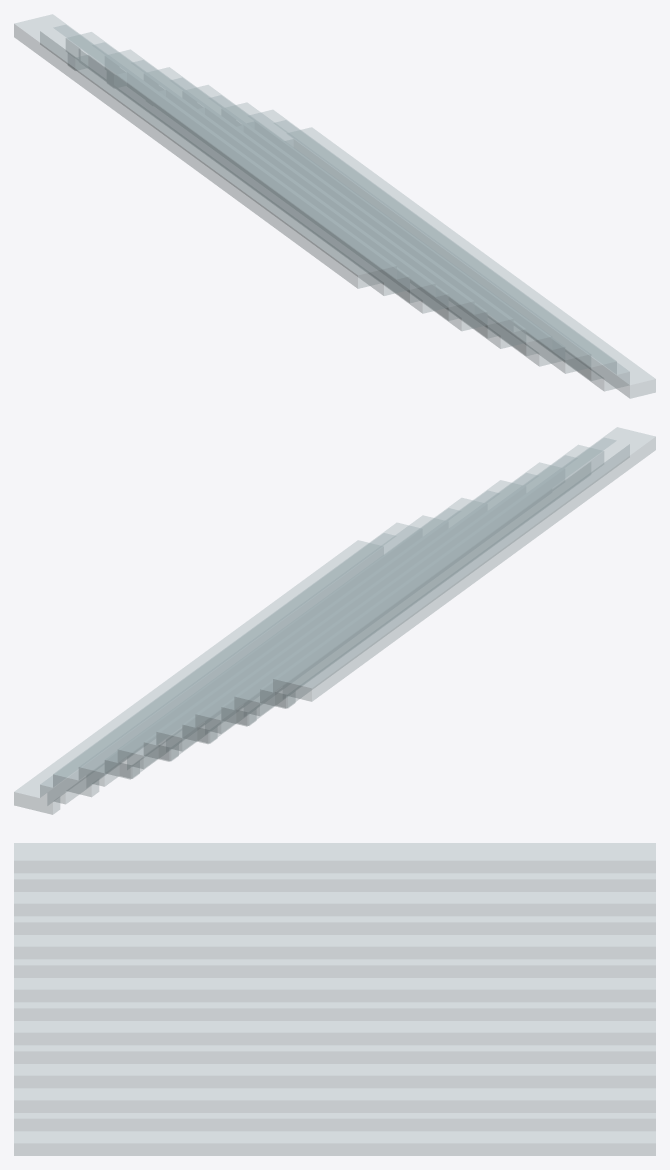
Rendered from hatchback_windscreen.glb.
3 views of the same model, one above another, from view 1: azimuth 30°, elevation 25°; view 2: azimuth 150°, elevation 25°; view 3: azimuth 270°, elevation 25° (orthographic). The views are drawn at different scales.
Parts seen in each view (by area): view 1: body:compound; view 2: body:compound; view 3: body:compound.
Part boxes in pixels (x1,y1,x2,y2): body:compound: (14,14,655,398); body:compound: (14,427,655,814); body:compound: (14,843,655,1155).
Size of the model in its own units: 0.7188 by 0.4375 by 1.44.
